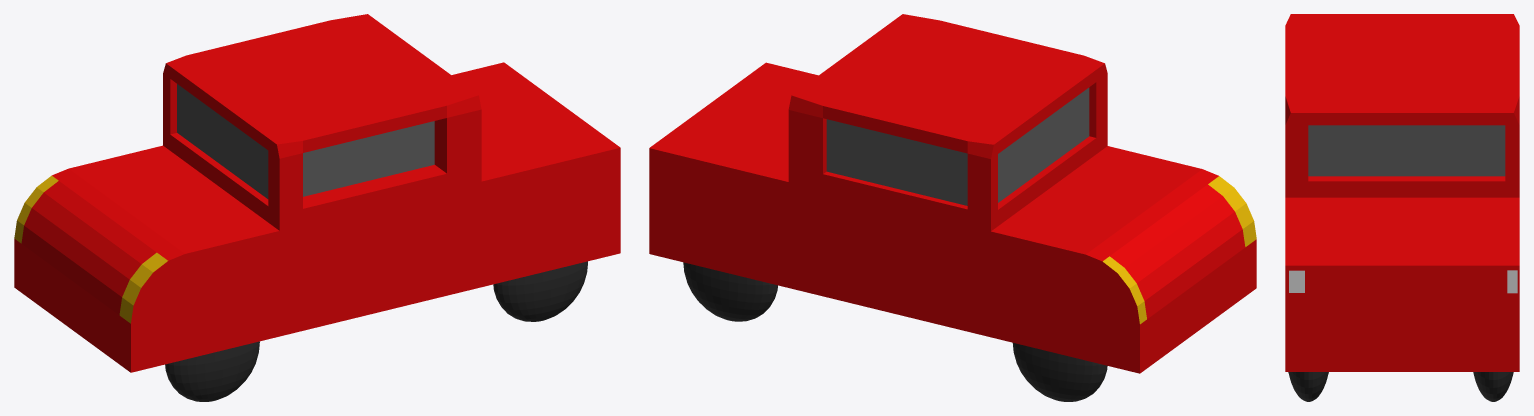
File: Car_GGJ.fbx
3 renders of one model, left to right at view 1: azimuth 30°, elevation 25°; view 2: azimuth 150°, elevation 25°; view 3: azimuth 270°, elevation 25°, orthographic.
Visible parts, largest first — view 1: Cube; view 2: Cube; view 3: Cube.
Part boxes in pixels (x1,y1,x2,y2): Cube: (14, 14, 620, 401); Cube: (649, 14, 1256, 401); Cube: (1285, 14, 1519, 401).
Size of the model in its own units: 485 by 235 by 200.
